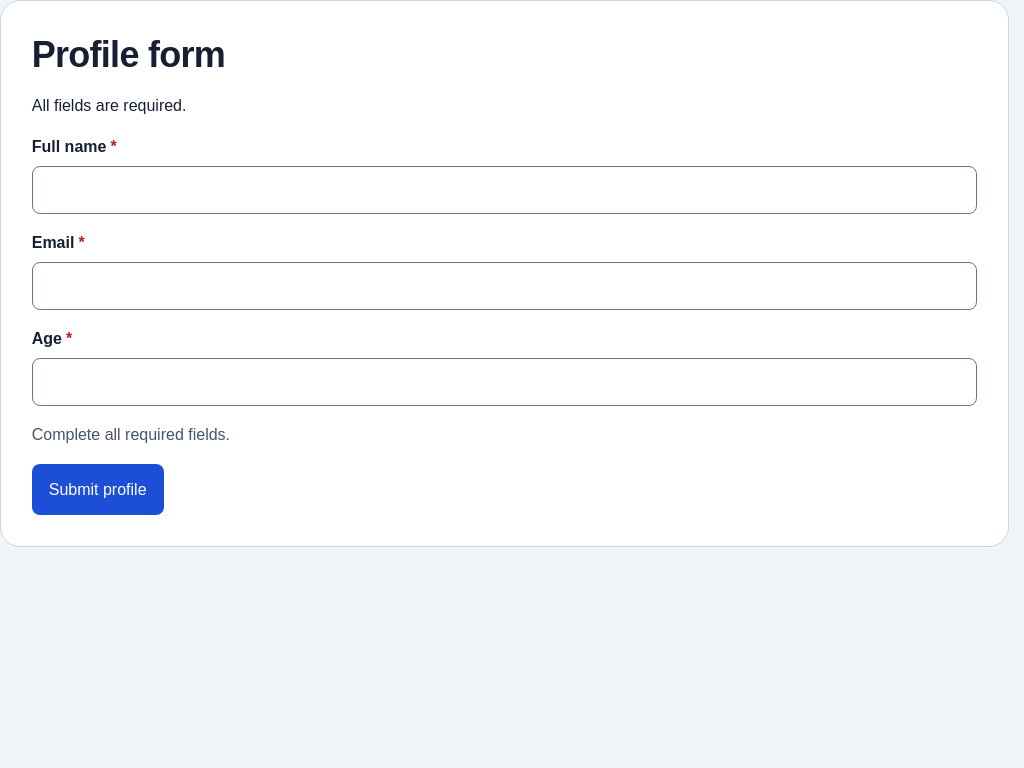
Test case: Valid submit and ShowData › does not create output for an empty invalid submit
The image size is (1024, 768).
Step 1. Click the button "Submit profile" → click(98, 490), box [32,464,164,515]
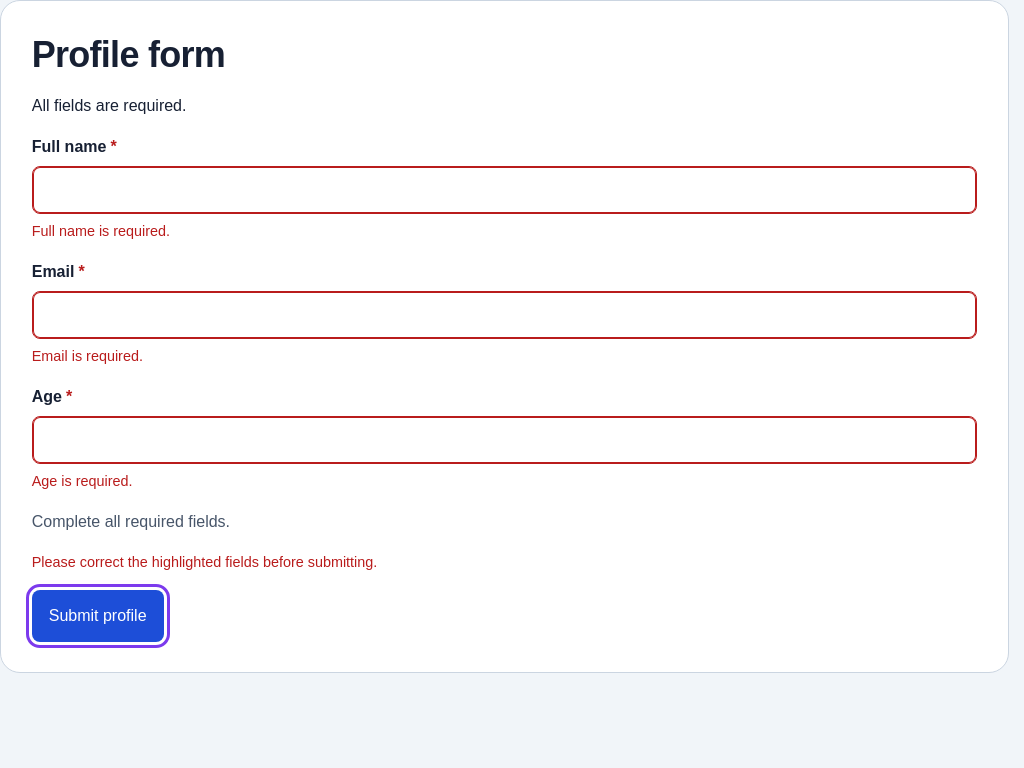
expect the text "Full name is required." is shown: met, box [32,223,170,239]
